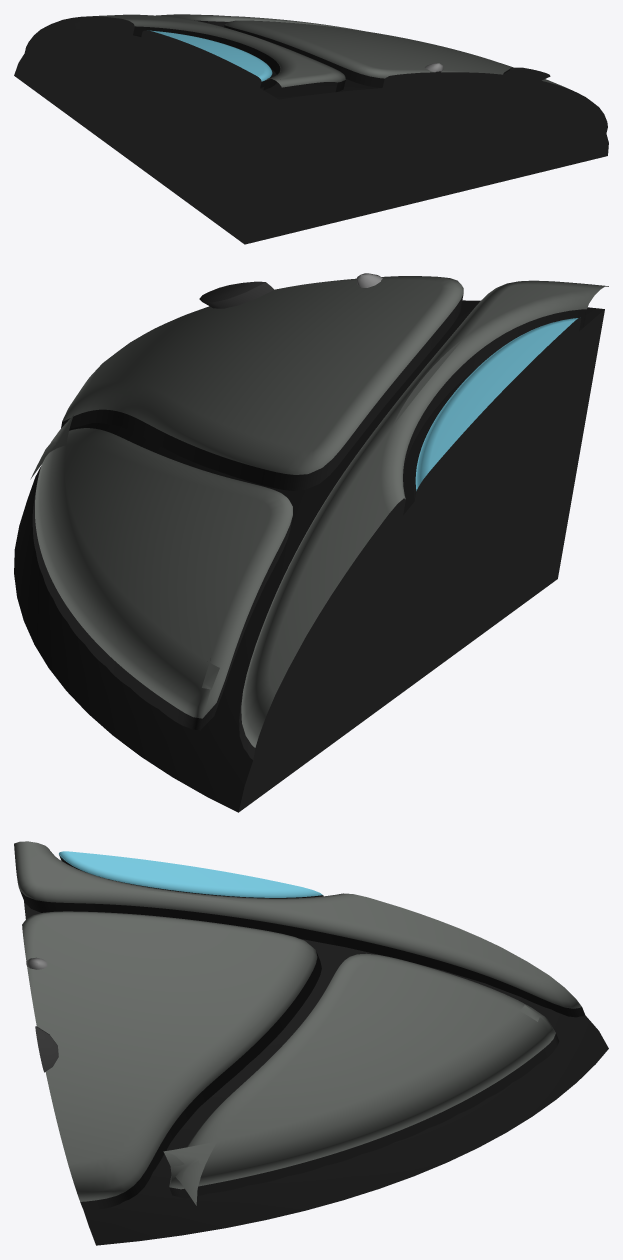
File: eye_sphere_157.glb
3 renders of one model, top to bottom at view 1: azimuth 30°, elevation 25°; view 2: azimuth 150°, elevation 25°; view 3: azimuth 270°, elevation 25°, orthographic. The views are drawn at different scales.
Parts seen in each view (by area): view 1: eye_sphere_157; view 2: eye_sphere_157; view 3: eye_sphere_157.
Part boxes in pixels (<box>): eye_sphere_157: <box>14,14,608,244</box>; eye_sphere_157: <box>14,273,608,812</box>; eye_sphere_157: <box>14,841,608,1245</box>.
Bounding box in the file's own units: 23.31 × 11.44 × 29.76.
